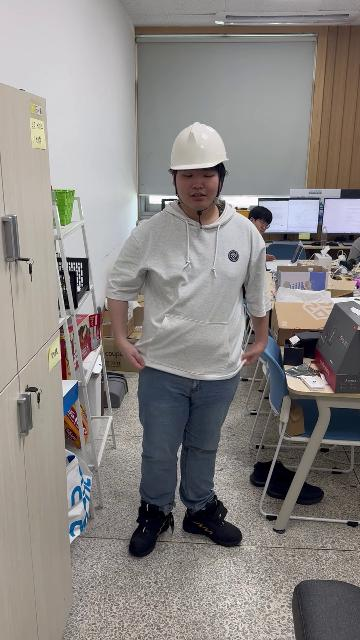helmet_worn: (167, 121, 230, 171)
shoe_not_worn: (252, 460, 322, 502), (250, 459, 283, 488)
shoe_worn: (182, 496, 242, 547), (128, 501, 175, 557)
vest_not_worn: (133, 213, 251, 391)
